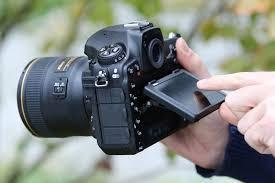camera: (19, 23, 225, 155)
